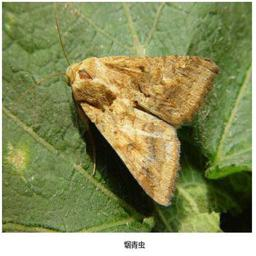Tobacco_budworm: (63, 53, 220, 207)
